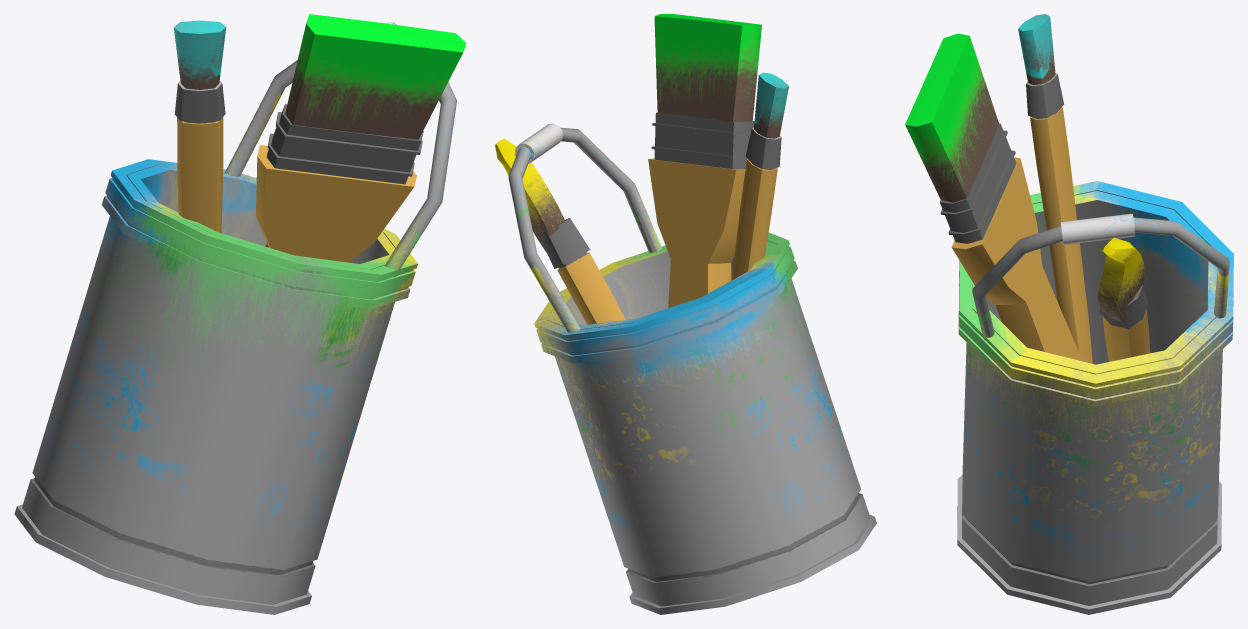
The model's file is mesh_Paint_Bucket.fbx.
3 views of the same model, side by side, from view 1: azimuth 30°, elevation 25°; view 2: azimuth 150°, elevation 25°; view 3: azimuth 270°, elevation 25° (orthographic). The views are drawn at different scales.
Parts seen in each view (by area): view 1: Paint_Bucket; view 2: Paint_Bucket; view 3: Paint_Bucket.
Part boxes in pixels (<box>): Paint_Bucket: <box>14,14,466,614</box>; Paint_Bucket: <box>495,14,876,614</box>; Paint_Bucket: <box>905,14,1233,614</box>.
Bounding box in the file's own units: 758 × 1064 × 567.
1 material, 1 textured.
